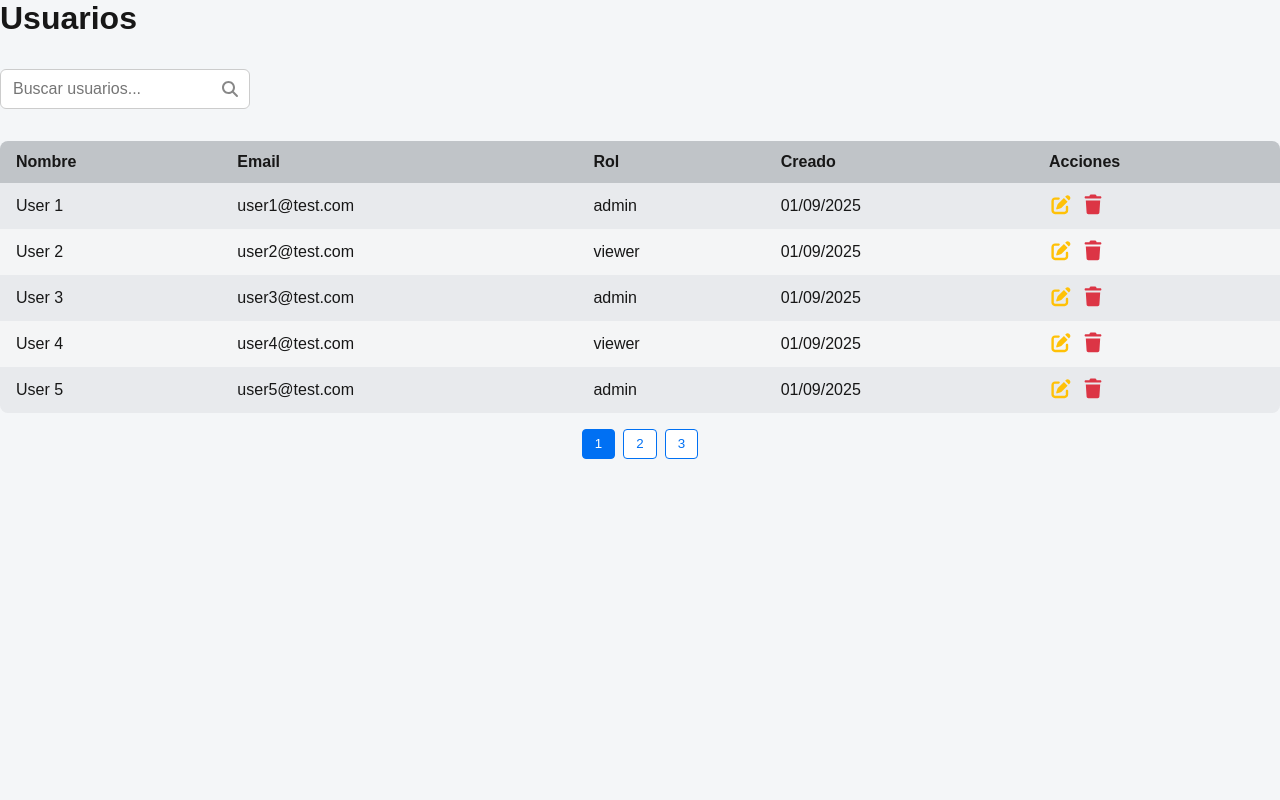
Test: UsersPage › deletes a user
expect the text "User 1" is shown: met, box 0,183 -> 221,229
Click the button with test id "delete-u1". click: [1093, 206]
box: 1081,195 -> 1105,217
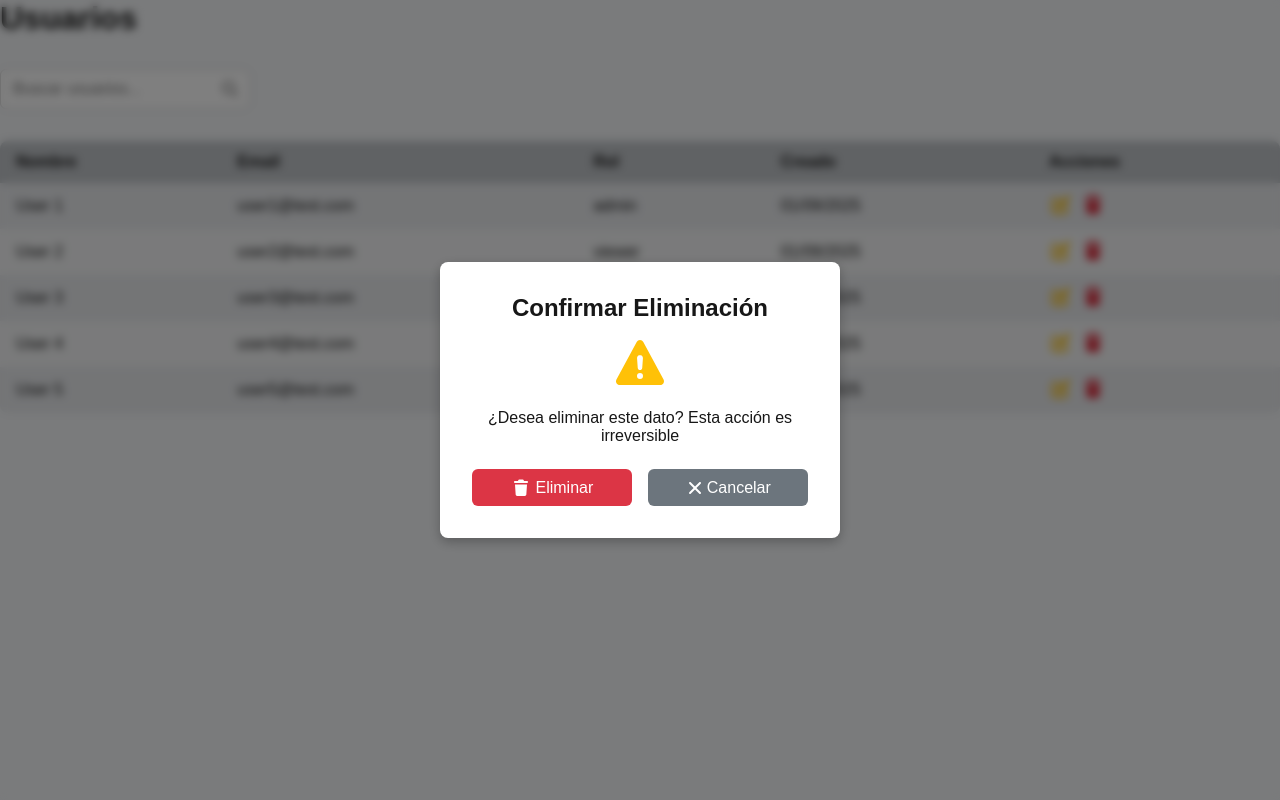
Click the button with test id "confirm-btn". click: [552, 488]
box: 472,469 -> 632,506
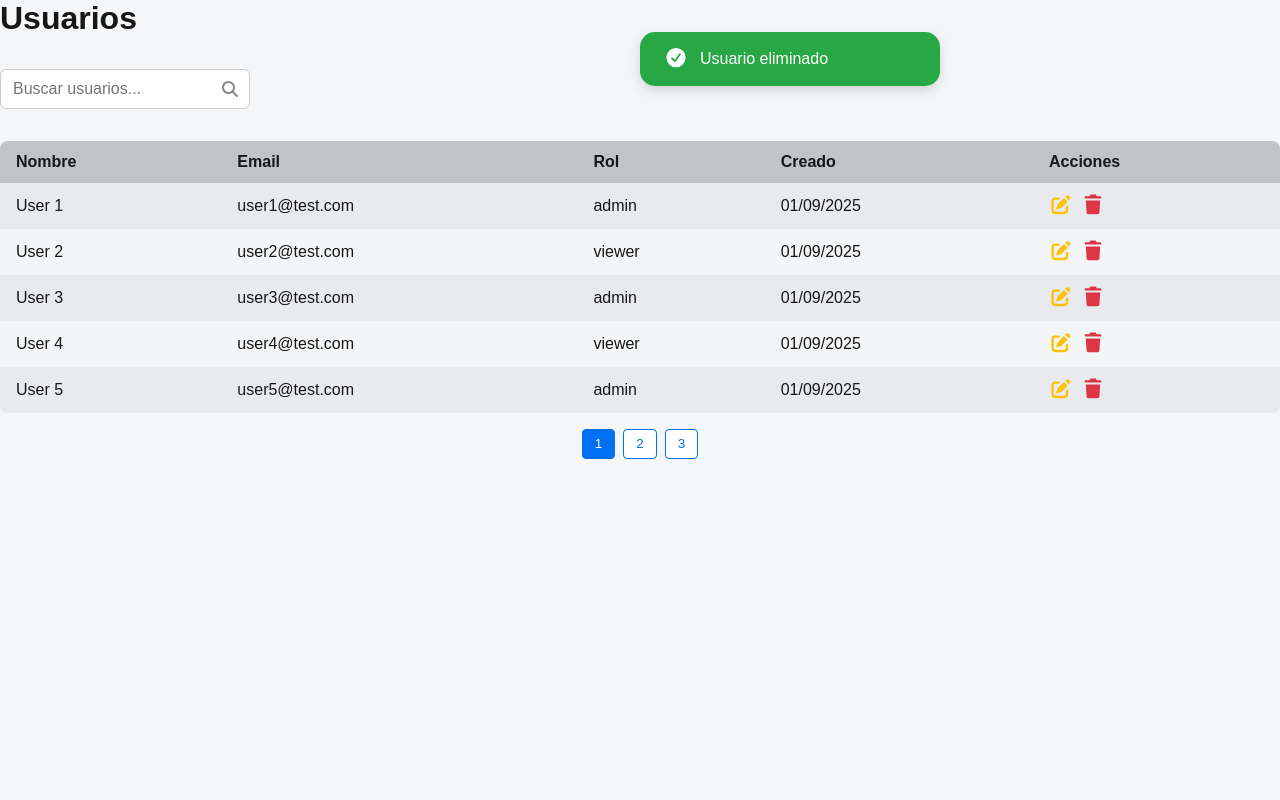
expect the text "Usuario eliminado" is shown: met, box 700,50 -> 828,67
